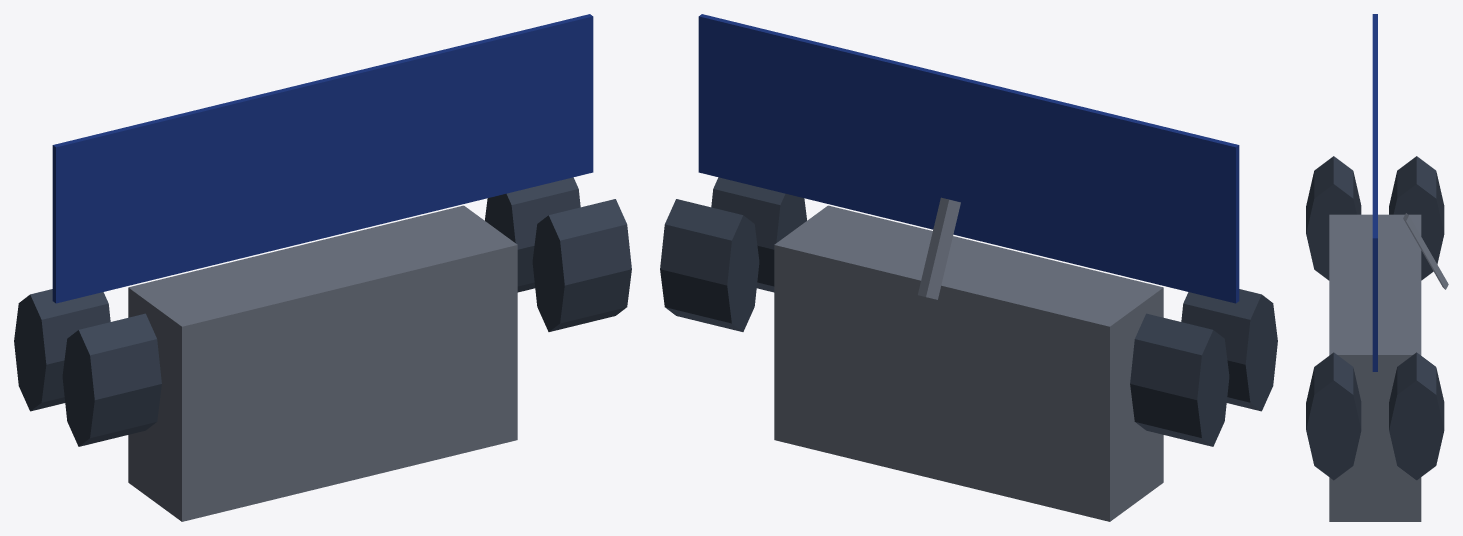
Rendered from lunar_rover.glb.
3 views of the same model, side by side, from view 1: azimuth 30°, elevation 25°; view 2: azimuth 150°, elevation 25°; view 3: azimuth 270°, elevation 25° (orthographic). The views are drawn at different scales.
Visible parts, largest first — view 1: chassis, solar, wheel_rr, wheel_rl, wheel_fl, wheel_fr; view 2: chassis, solar, wheel_fr, wheel_fl, wheel_rl, wheel_rr, sensor; view 3: chassis, wheel_rr, wheel_fr, wheel_rl, wheel_fl, solar, sensor.
Part boxes in pixels (bbox=[...]): chassis: bbox=[128, 205, 517, 521]; solar: bbox=[52, 14, 593, 303]; wheel_rr: bbox=[532, 199, 631, 331]; wheel_rl: bbox=[62, 313, 161, 446]; wheel_fl: bbox=[14, 289, 110, 411]; wheel_fr: bbox=[485, 177, 580, 292]; chassis: bbox=[774, 205, 1163, 521]; solar: bbox=[698, 14, 1239, 303]; wheel_fr: bbox=[660, 199, 759, 331]; wheel_fl: bbox=[1130, 313, 1229, 446]; wheel_rl: bbox=[1181, 289, 1277, 411]; wheel_rr: bbox=[711, 177, 806, 292]; sensor: bbox=[918, 197, 960, 299]; chassis: bbox=[1329, 214, 1421, 521]; wheel_rr: bbox=[1306, 352, 1361, 480]; wheel_fr: bbox=[1389, 352, 1444, 480]; wheel_rl: bbox=[1306, 156, 1361, 280]; wheel_fl: bbox=[1389, 156, 1444, 280]; solar: bbox=[1372, 14, 1377, 371]; sensor: bbox=[1403, 213, 1448, 289].
Size of the model in its own units: 2.88 by 1.95 by 0.7742.
